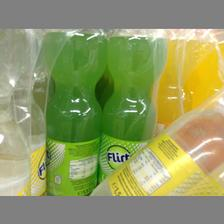Soda: (44, 28, 104, 196), (100, 31, 164, 173), (0, 27, 44, 192)
